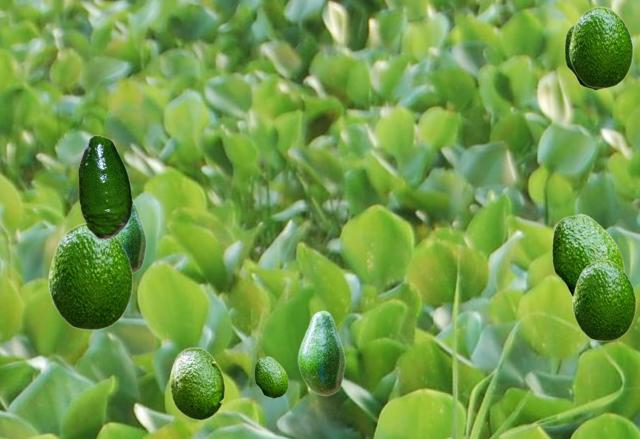avocado: (48, 222, 132, 329), (551, 213, 623, 296), (78, 135, 131, 238), (569, 6, 632, 87), (572, 259, 635, 340), (297, 310, 344, 395), (169, 347, 224, 419), (564, 24, 607, 89), (117, 198, 145, 273), (254, 356, 287, 397)
